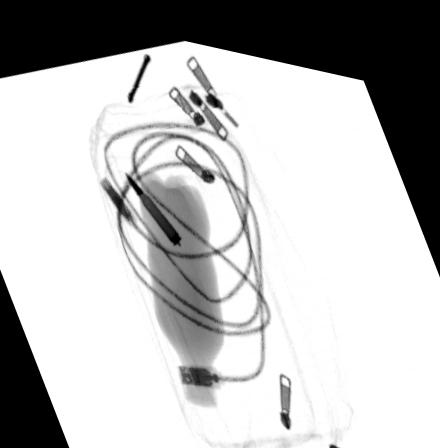Bullet: (122, 164, 181, 241)
